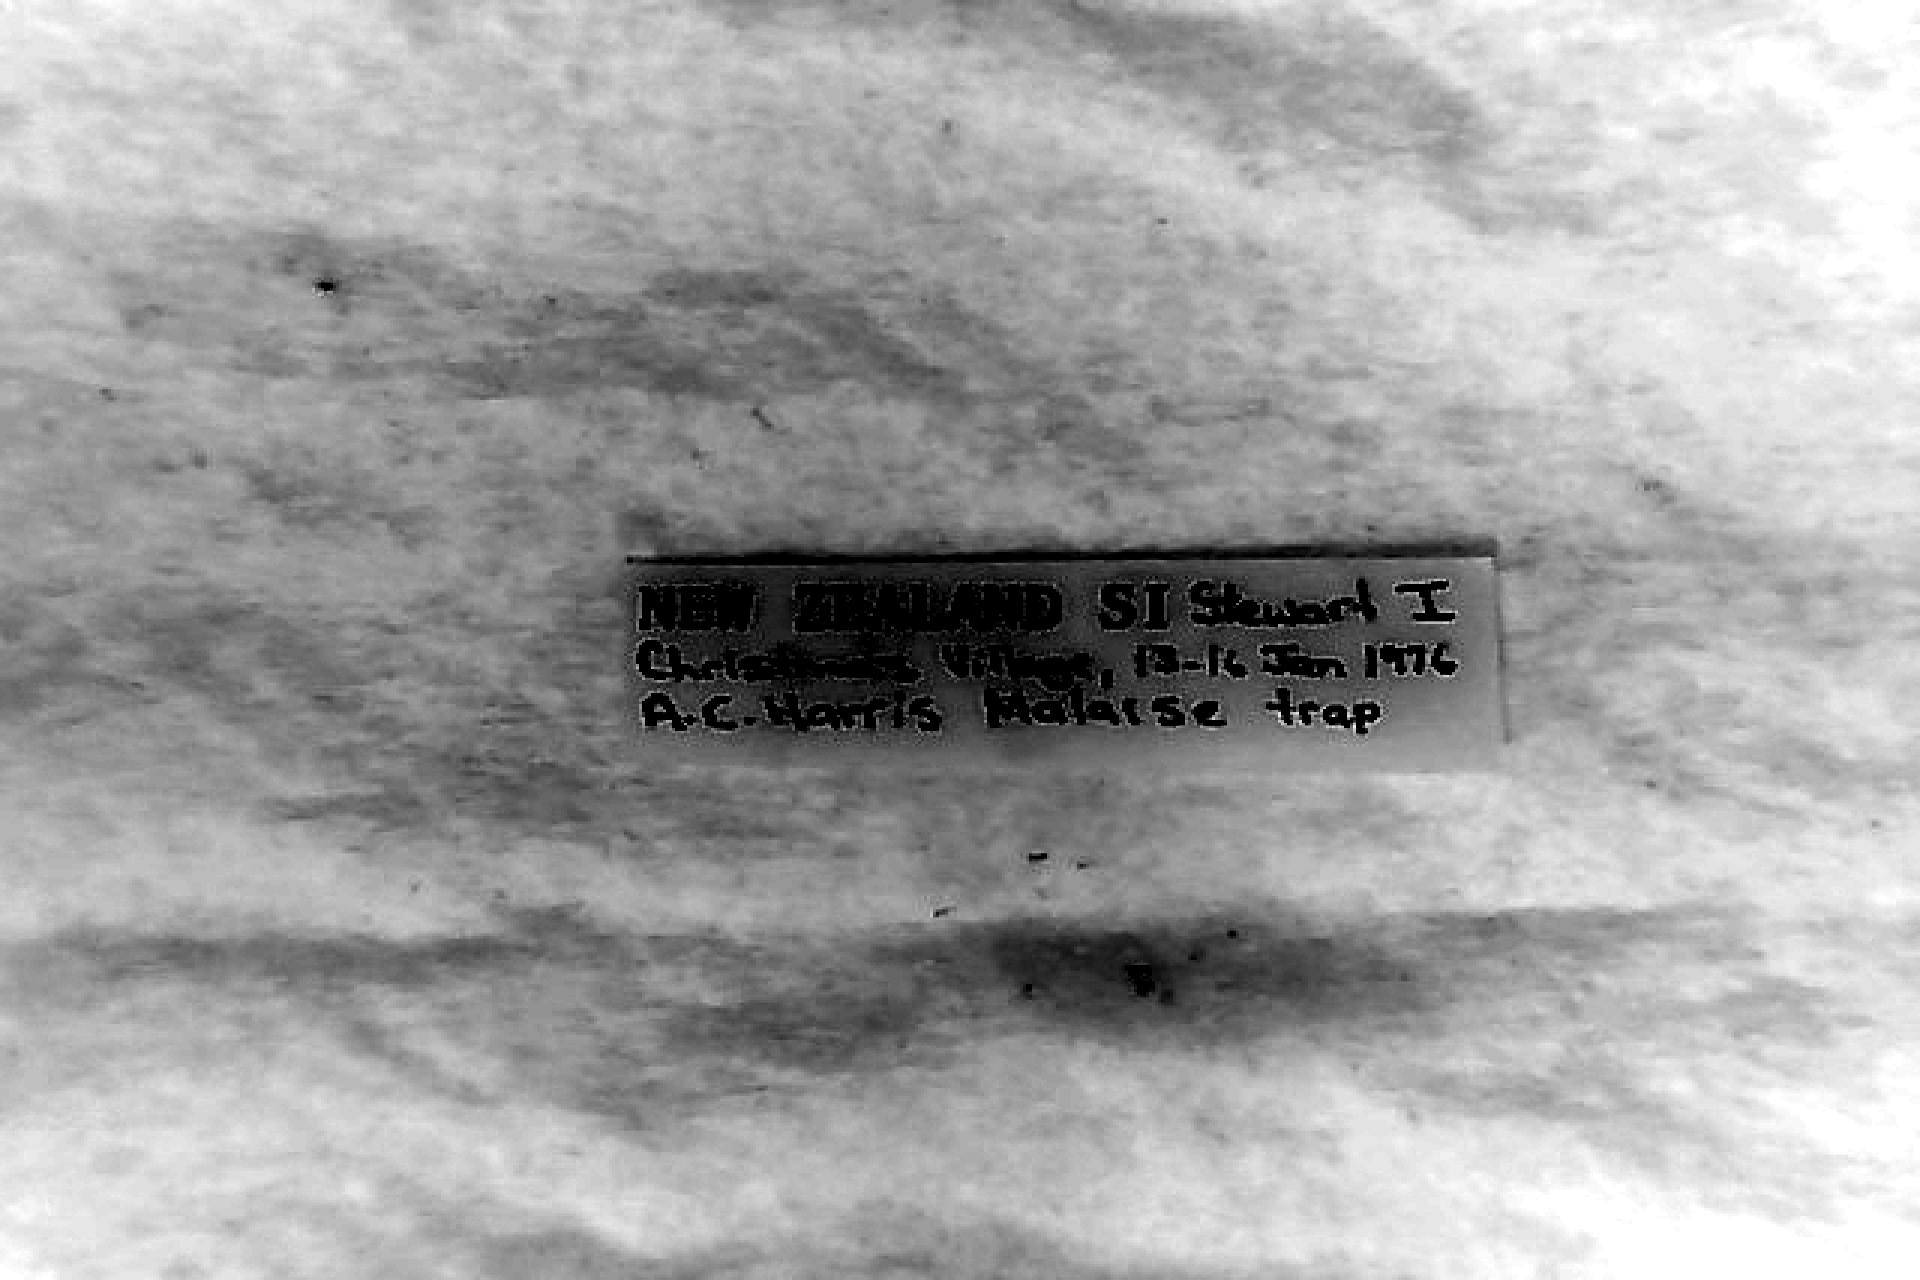mixed_label: (626, 557, 1500, 763)
